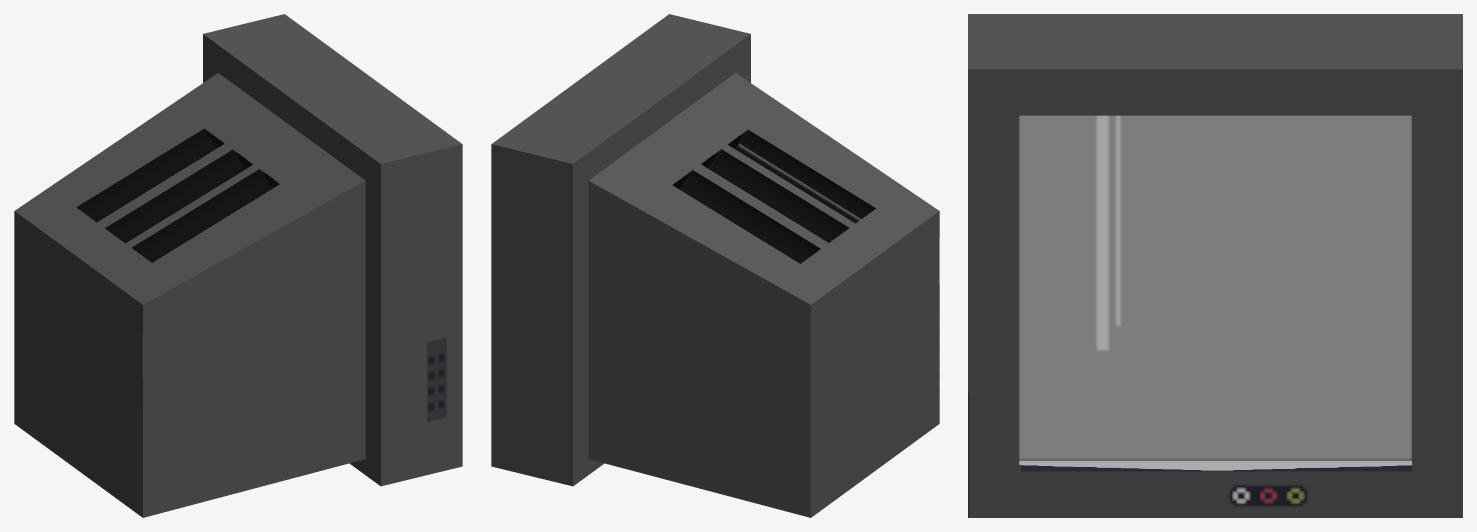
3 views of the same model, side by side, from view 1: azimuth 30°, elevation 25°; view 2: azimuth 150°, elevation 25°; view 3: azimuth 270°, elevation 25° (orthographic). The views are drawn at different scales.
Visible parts, largest first — view 1: Cube; view 2: Cube; view 3: Cube.
Part boxes in pixels (x1=…): Cube: x1=14, y1=14, x2=462, y2=517; Cube: x1=491, y1=14, x2=939, y2=517; Cube: x1=968, y1=14, x2=1462, y2=517.
Bounding box in the file's own units: 2.72 × 2.84 × 2.84.
1 material, 1 textured.
